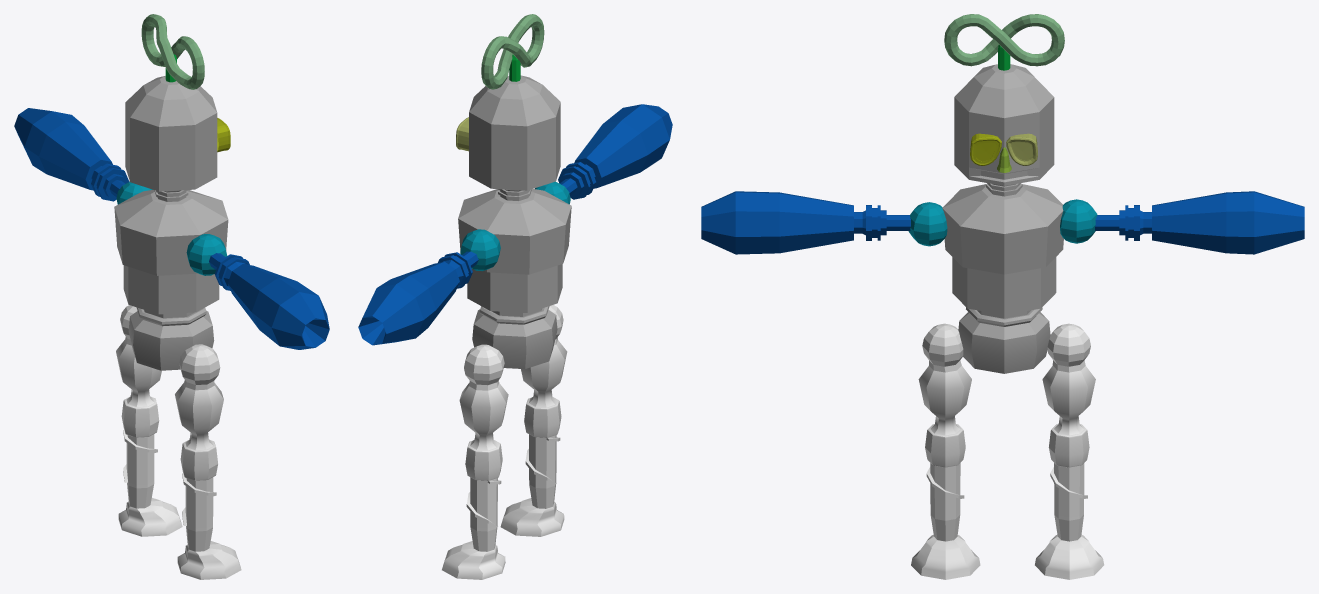
Rendered from robot.fbx.
3 views of the same model, side by side, from view 1: azimuth 30°, elevation 25°; view 2: azimuth 150°, elevation 25°; view 3: azimuth 270°, elevation 25° (orthographic). The views are drawn at different scales.
Parts seen in each view (by area): view 1: cuerpo, piernaderecha, piernaiquierda, brazoderecho, pasted__pCylinder1, sweep3, conecionderecho; view 2: cuerpo, piernaiquierda, piernaderecha, brazoderecho, pasted__pCylinder1, sweep3, pasted__pSphere1; view 3: cuerpo, piernaiquierda, piernaderecha, brazoderecho, pasted__pCylinder1, sweep3, conecionderecho, pasted__pSphere1, ojoderecho, ojoizquierdo.
Part boxes in pixels (x1,y1,x2,y2): cuerpo: (114,76,228,370); piernaderecha: (175,344,241,579); piernaiquierda: (116,305,182,536); brazoderecho: (209,253,329,349); pasted__pCylinder1: (14,108,129,201); sweep3: (141,14,204,89); conecionderecho: (186,234,227,275); cuerpo: (458,75,571,369); piernaiquierda: (442,344,508,579); piernaderecha: (500,305,567,536); brazoderecho: (558,104,672,199); pasted__pCylinder1: (358,251,478,345); sweep3: (481,14,544,89); pasted__pSphere1: (460,229,500,271); cuerpo: (942,64,1063,373); piernaiquierda: (1035,323,1104,579); piernaderecha: (911,323,980,579); brazoderecho: (701,191,910,254); pasted__pCylinder1: (1095,191,1304,254); sweep3: (944,14,1064,66); conecionderecho: (908,202,947,246); pasted__pSphere1: (1060,199,1097,243); ojoderecho: (970,133,1001,165); ojoizquierdo: (1006,133,1037,165).
Bounding box in the file's own units: 1.89 × 9.2 × 9.2.
